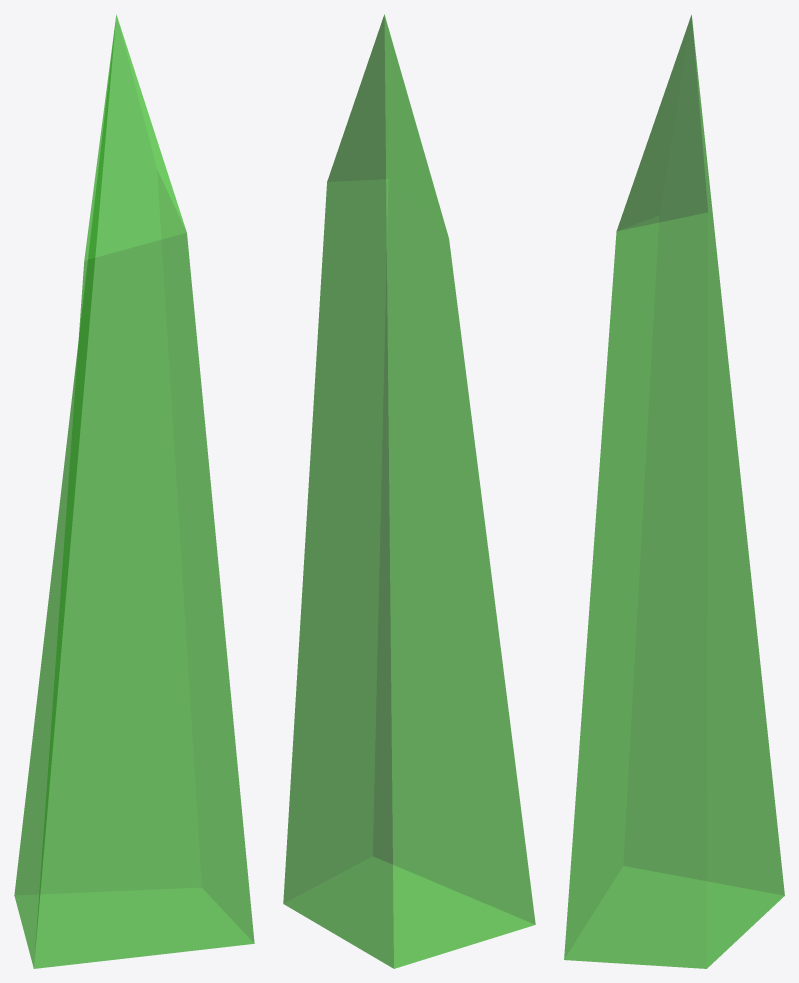
The model's file is Crsytal_6.fbx.
3 views of the same model, side by side, from view 1: azimuth 30°, elevation 25°; view 2: azimuth 150°, elevation 25°; view 3: azimuth 270°, elevation 25° (orthographic).
Visible parts, largest first — view 1: Cube; view 2: Cube; view 3: Cube.
Part boxes in pixels (left/top/right/bottom): Cube: left=14, top=14, right=254, bottom=968; Cube: left=283, top=14, right=535, bottom=968; Cube: left=564, top=15, right=784, bottom=968.
Size of the model in its own units: 10.9 by 44.84 by 9.87.
